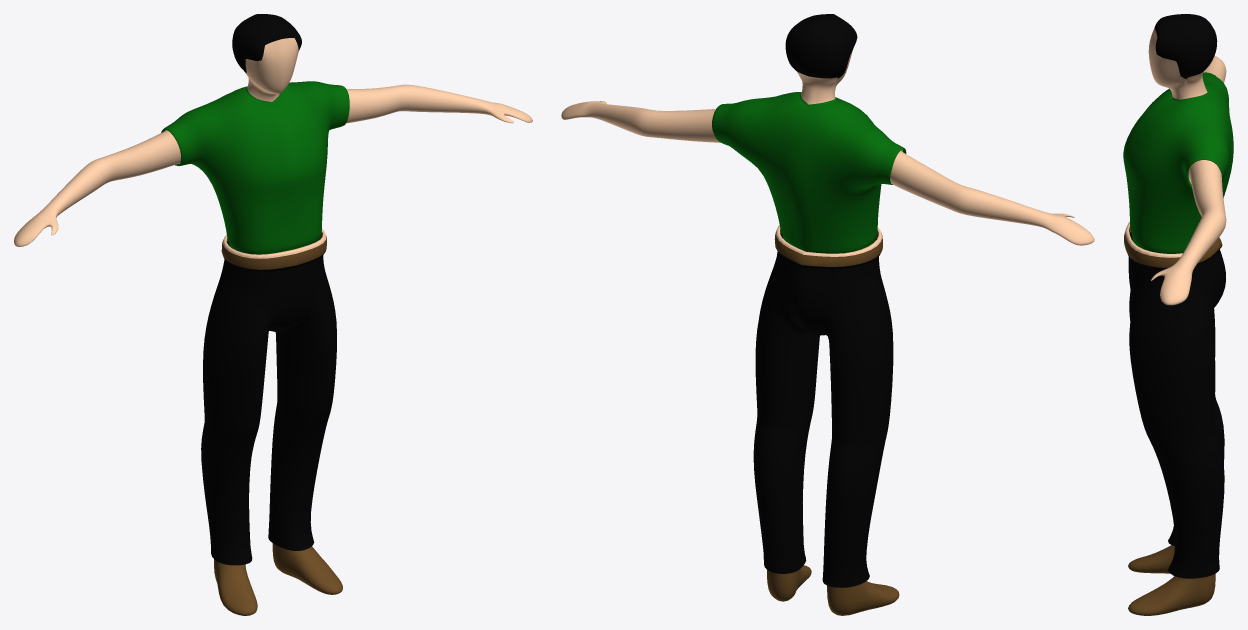
The model's file is yeşil erkek.fbx.
3 views of the same model, side by side, from view 1: azimuth 30°, elevation 25°; view 2: azimuth 150°, elevation 25°; view 3: azimuth 270°, elevation 25° (orthographic). The views are drawn at different scales.
Parts seen in each view (by area): view 1: Cube.007; view 2: Cube.007; view 3: Cube.007.
Boxes of the visible parts, x1,y1,x2,y2 form: Cube.007: (14,14,532,615); Cube.007: (561,14,1094,615); Cube.007: (1123,14,1233,615).
Bounding box in the file's own units: 171 × 180 × 31.32.
